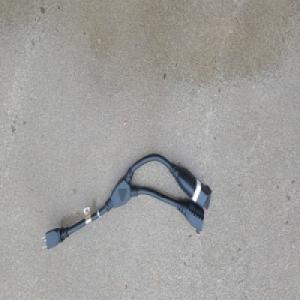Wire: (40, 150, 212, 251)
